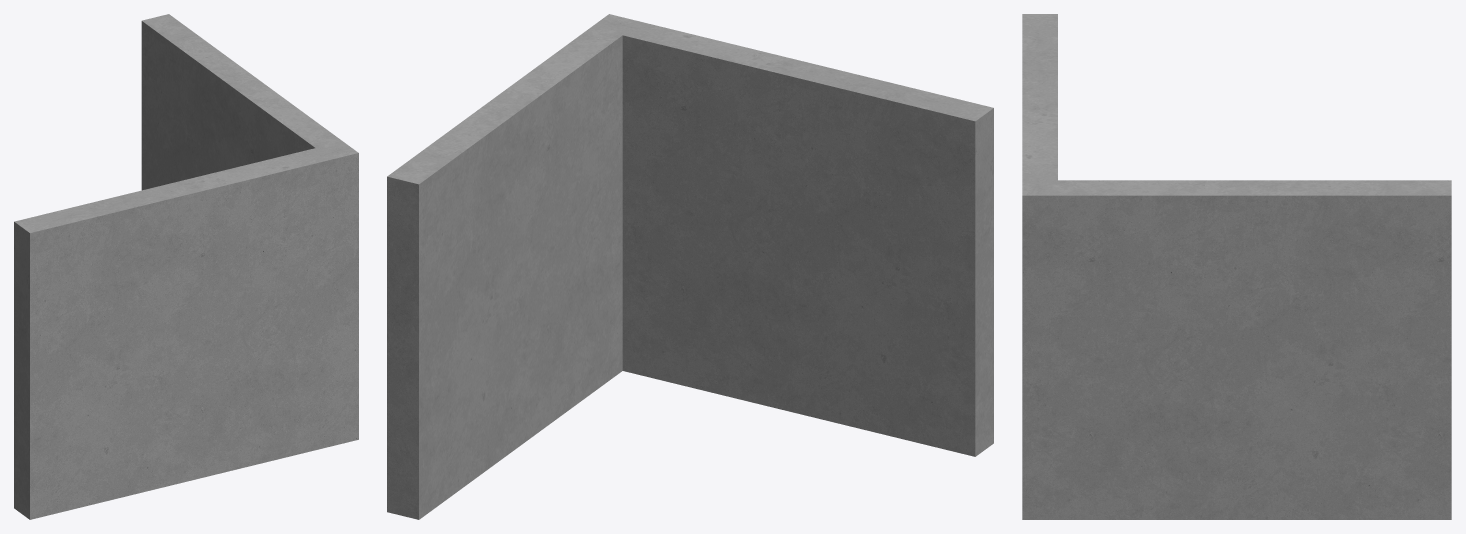
Rendered from Wall_CornerVariant2.fbx.
3 renders of one model, left to right at view 1: azimuth 30°, elevation 25°; view 2: azimuth 150°, elevation 25°; view 3: azimuth 270°, elevation 25°, orthographic. The views are drawn at different scales.
Visible parts, largest first — view 1: Wall_CornerVariant2; view 2: Wall_CornerVariant2; view 3: Wall_CornerVariant2.
Part boxes in pixels (<box>): Wall_CornerVariant2: <box>14,14,358,519</box>; Wall_CornerVariant2: <box>387,14,993,519</box>; Wall_CornerVariant2: <box>1022,14,1451,519</box>.
Size of the model in its own units: 2.4 by 2 by 2.4.
